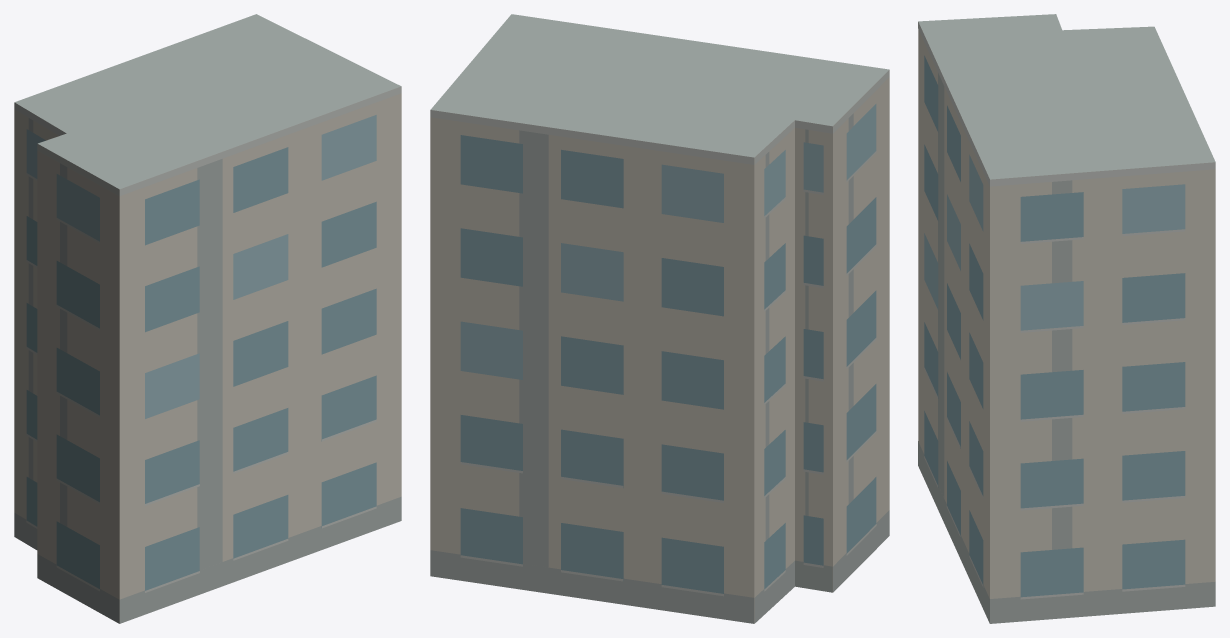
File: survey-upis-32631740.glb
3 renders of one model, left to right at view 1: azimuth 30°, elevation 25°; view 2: azimuth 150°, elevation 25°; view 3: azimuth 270°, elevation 25°, orthographic. The views are drawn at different scales.
Parts seen in each view (by area): view 1: survey-upis-32631740.tmp; view 2: survey-upis-32631740.tmp; view 3: survey-upis-32631740.tmp.
Boxes of the visible parts, left/top/right/bottom form: survey-upis-32631740.tmp: left=14, top=14, right=401, bottom=623; survey-upis-32631740.tmp: left=430, top=14, right=889, bottom=623; survey-upis-32631740.tmp: left=918, top=14, right=1215, bottom=623.
Size of the model in its own units: 12.2 by 15.25 by 9.27.
